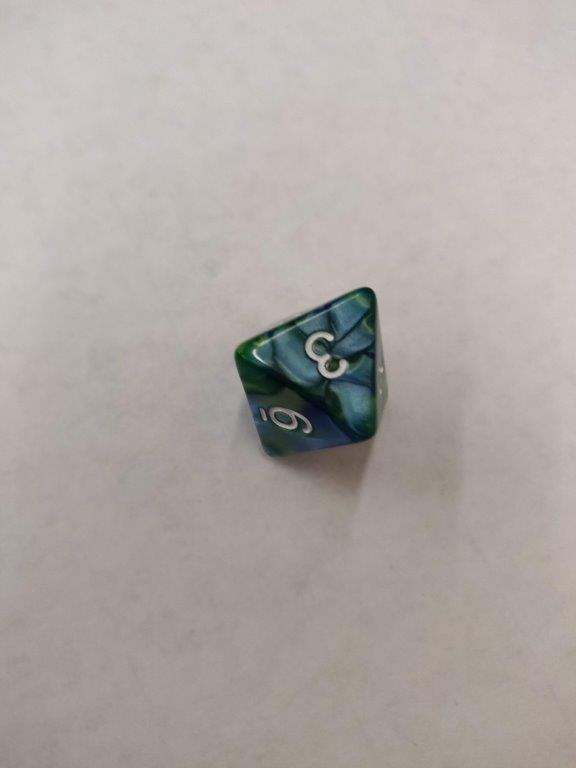d8-3: (234, 288, 387, 454)
